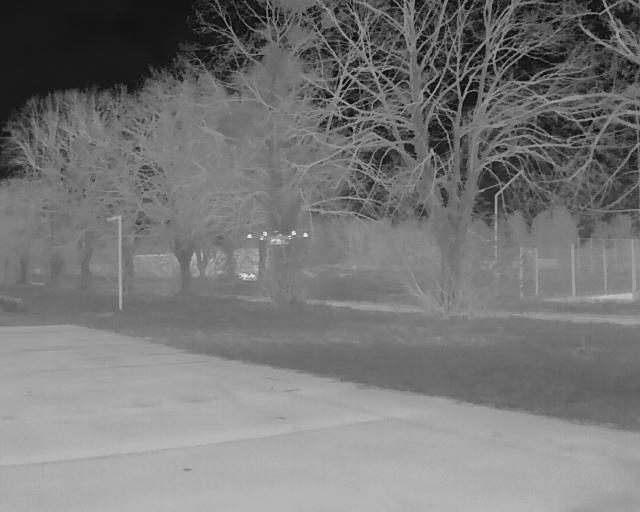drone: (240, 218, 314, 270)
